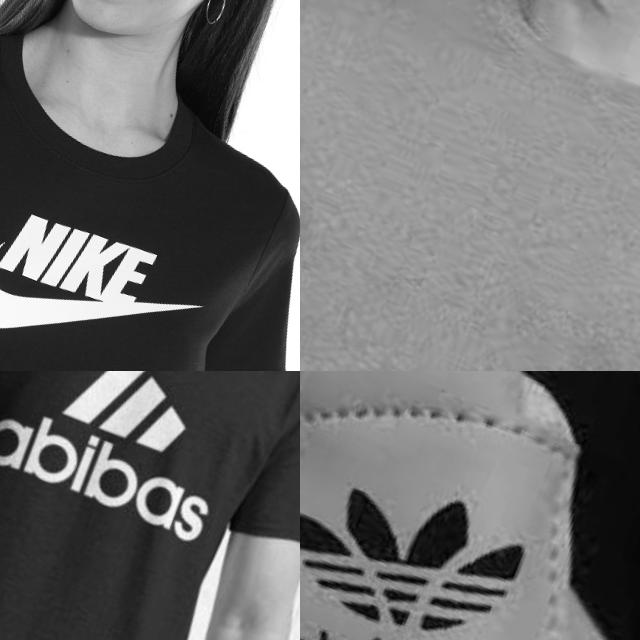ADIDAS_fake: (300, 410, 612, 640), (0, 371, 273, 574), (0, 397, 227, 559), (46, 371, 226, 475)
NIKE_original: (0, 151, 247, 371)
